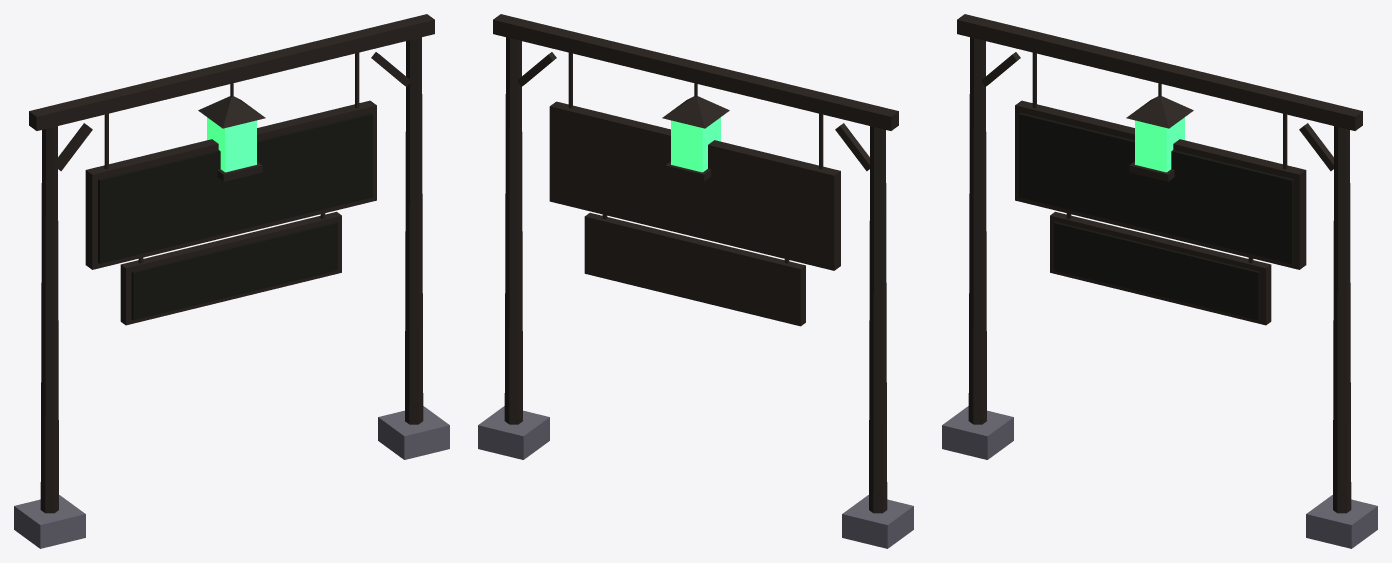
File: platform_sign.glb
3 views of the same model, side by side, from view 1: azimuth 30°, elevation 25°; view 2: azimuth 150°, elevation 25°; view 3: azimuth 330°, elevation 25° (orthographic).
Visible parts, largest first — view 1: SignBoard_Face, SubBoard_Face, Beam, Post_L, Post_R, Frame.002, SubFrame, PostBase_R, PostBase_L, LanternBody, LanternCap, Bracket_L; view 2: Frame.002, SubFrame, Beam, Post_L, Post_R, PostBase_R, PostBase_L, LanternBody, LanternCap, Bracket_L; view 3: SignBoard_Face, SubBoard_Face, Beam, Post_R, Post_L, Frame.002, SubFrame, PostBase_L, PostBase_R, LanternBody, LanternCap, Bracket_R.
Part boxes in pixels (<box>): SignBoard_Face: <box>98,113,372,263</box>; SubBoard_Face: <box>131,221,337,320</box>; Beam: <box>29,14,434,130</box>; Post_L: <box>40,126,58,513</box>; Post_R: <box>405,37,423,424</box>; Frame.002: <box>85,100,376,269</box>; SubFrame: <box>120,211,341,325</box>; PostBase_R: <box>378,406,449,459</box>; PostBase_L: <box>14,495,85,548</box>; LanternBody: <box>207,117,256,172</box>; LanternCap: <box>198,96,265,128</box>; Bracket_L: <box>58,123,92,171</box>; Frame.002: <box>549,101,840,270</box>; SubFrame: <box>584,213,805,326</box>; Beam: <box>493,14,898,130</box>; Post_L: <box>869,126,887,513</box>; Post_R: <box>504,37,522,424</box>; PostBase_R: <box>478,406,549,459</box>; PostBase_L: <box>842,495,913,548</box>; LanternBody: <box>671,117,720,172</box>; LanternCap: <box>662,96,729,128</box>; Bracket_L: <box>835,123,869,171</box>; SignBoard_Face: <box>1019,113,1293,263</box>; SubBoard_Face: <box>1054,221,1260,320</box>; Beam: <box>957,14,1362,130</box>; Post_R: <box>1333,126,1351,513</box>; Post_L: <box>968,37,986,424</box>; Frame.002: <box>1015,100,1306,269</box>; SubFrame: <box>1050,211,1271,325</box>; PostBase_L: <box>942,406,1013,459</box>; PostBase_R: <box>1306,495,1377,548</box>; LanternBody: <box>1135,117,1184,172</box>; LanternCap: <box>1126,96,1193,128</box>; Bracket_R: <box>1299,123,1333,171</box>.
Size of the model in its own units: 3.6 by 3.56 by 0.4.
